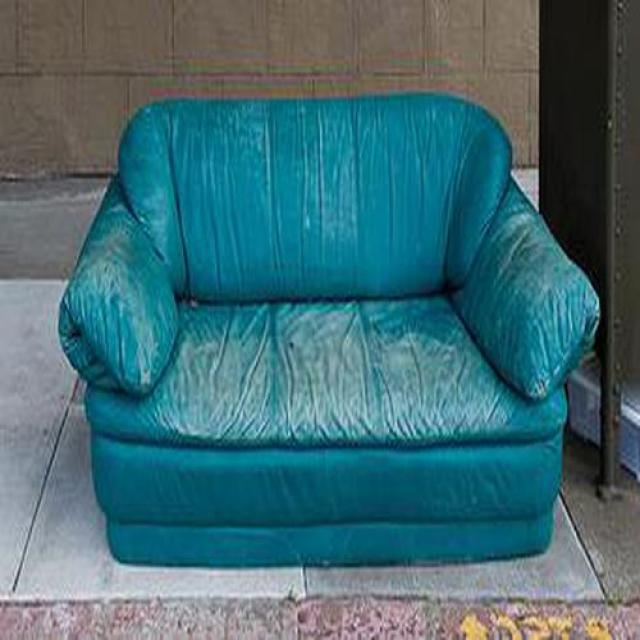sofa: (56, 92, 602, 571)
